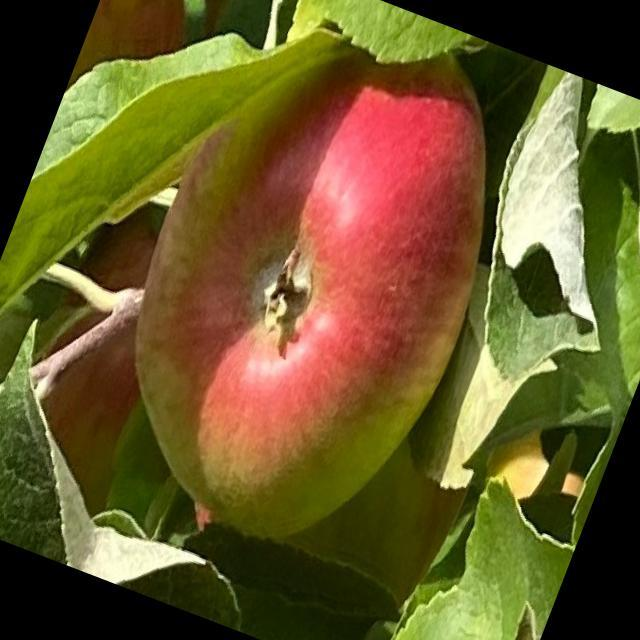100-_ripeness: (72, 0, 544, 578), (0, 207, 203, 509)
